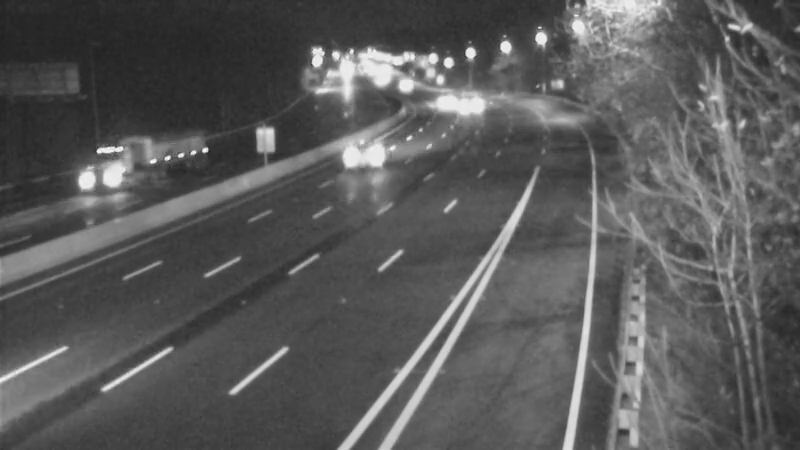vehicle: (326, 119, 406, 199), (104, 128, 184, 208), (375, 57, 425, 107), (420, 78, 470, 128), (441, 76, 491, 126)
